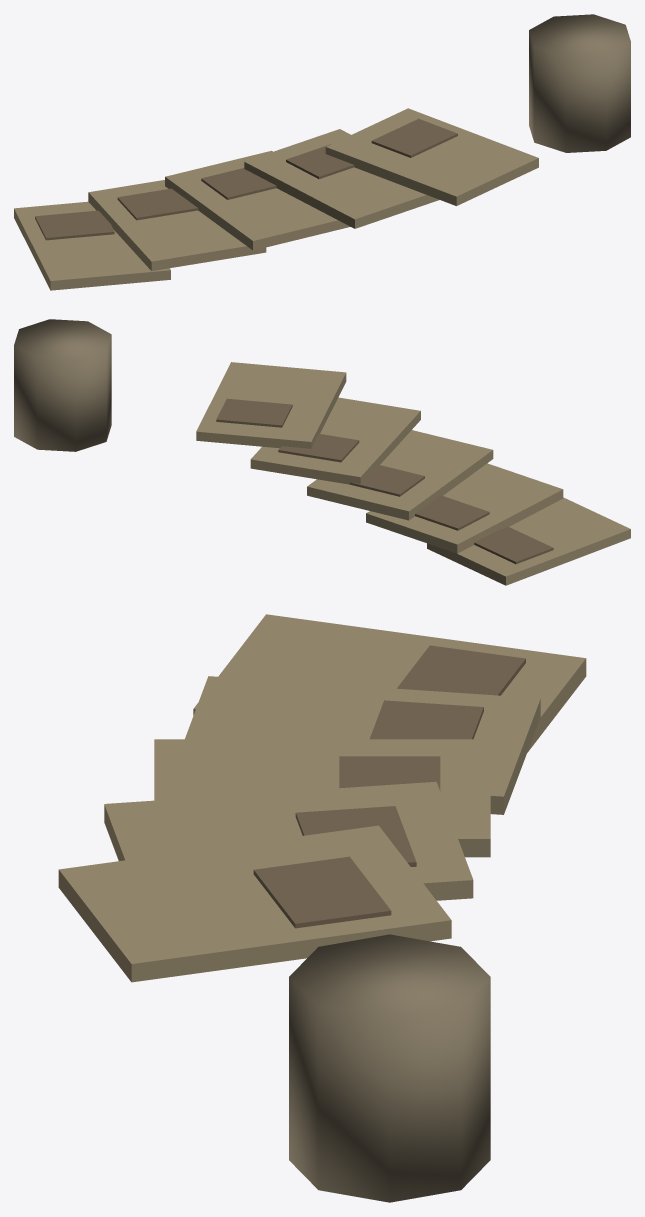
File: elain_seed_packets.glb
The picture shows the model from 3 angles, top to bottom: view 1: azimuth 30°, elevation 25°; view 2: azimuth 150°, elevation 25°; view 3: azimuth 270°, elevation 25°; orthographic projection. The views are drawn at different scales.
Parts seen in each view (by area): view 1: elain_seed_packets; view 2: elain_seed_packets; view 3: elain_seed_packets.
Boxes of the visible parts, left/top/right/bottom form: elain_seed_packets: left=14, top=14, right=630, bottom=290; elain_seed_packets: left=14, top=319, right=630, bottom=585; elain_seed_packets: left=58, top=614, right=586, bottom=1202.
Size of the model in its own units: 0.3987 by 0.06 by 0.1567.
